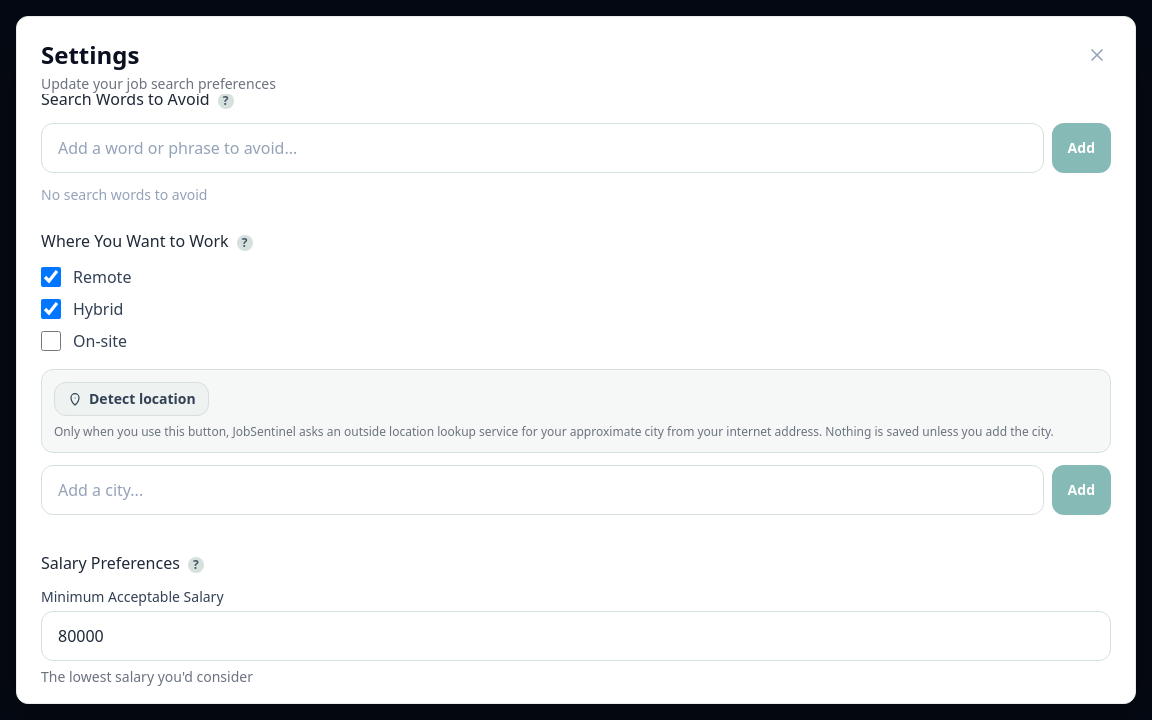
Settings toast-triggered form state › keeps unsaved detected location after success toast renders
(page scrolled)
Click the button "Detect location": [131, 399] box [54,382,209,416]
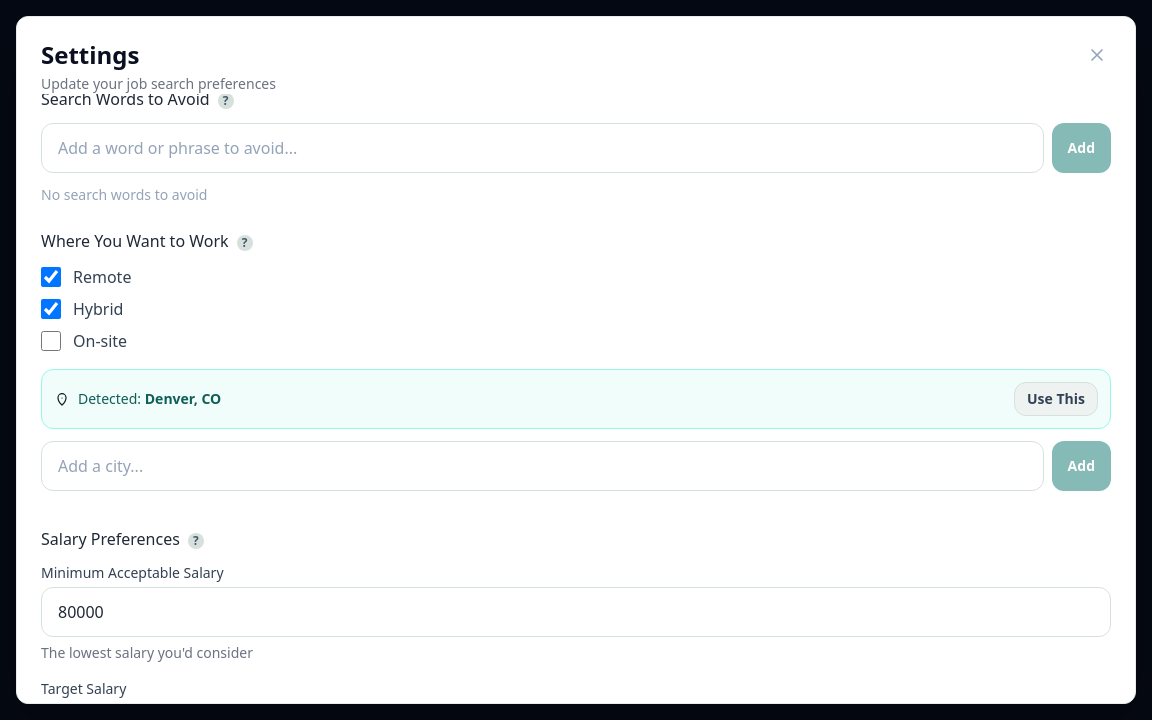
Result: the text "Denver, CO" is shown at [145,389,221,408]
Click the button "Use This": [1056, 399] box [1014,382,1098,416]
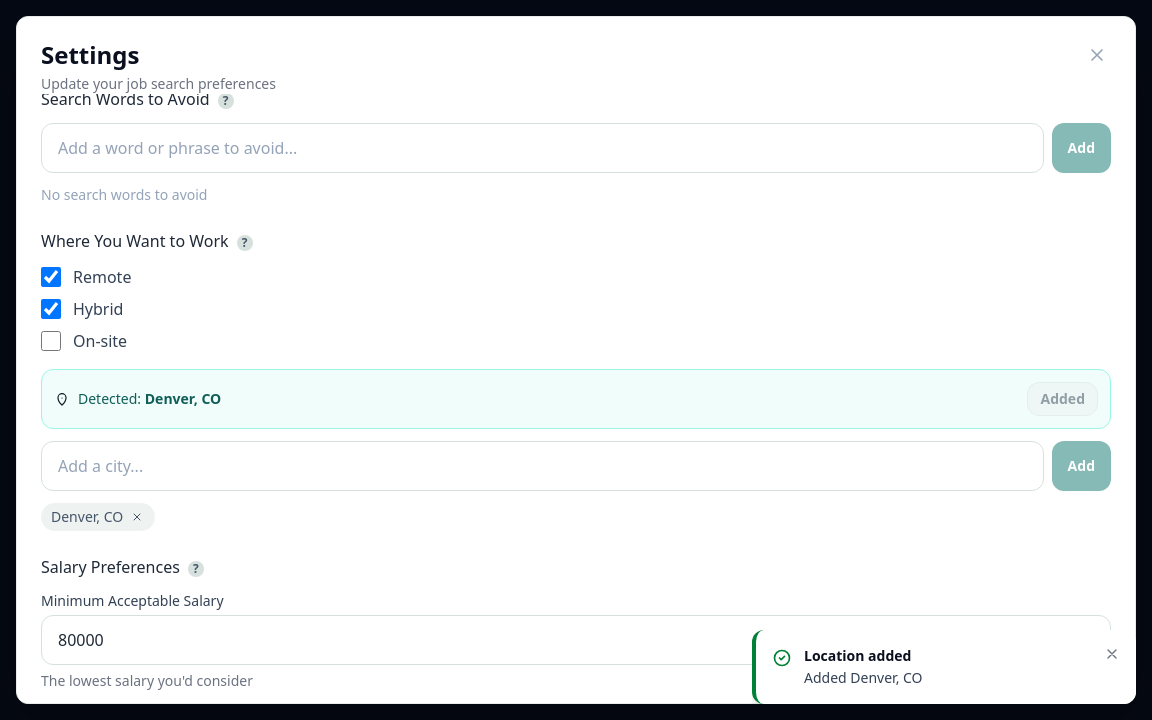
Result: the button named "Remove Denver, CO" is shown at [129,509,145,525]
Result: the text "Location added" is shown at [804,646,911,665]
